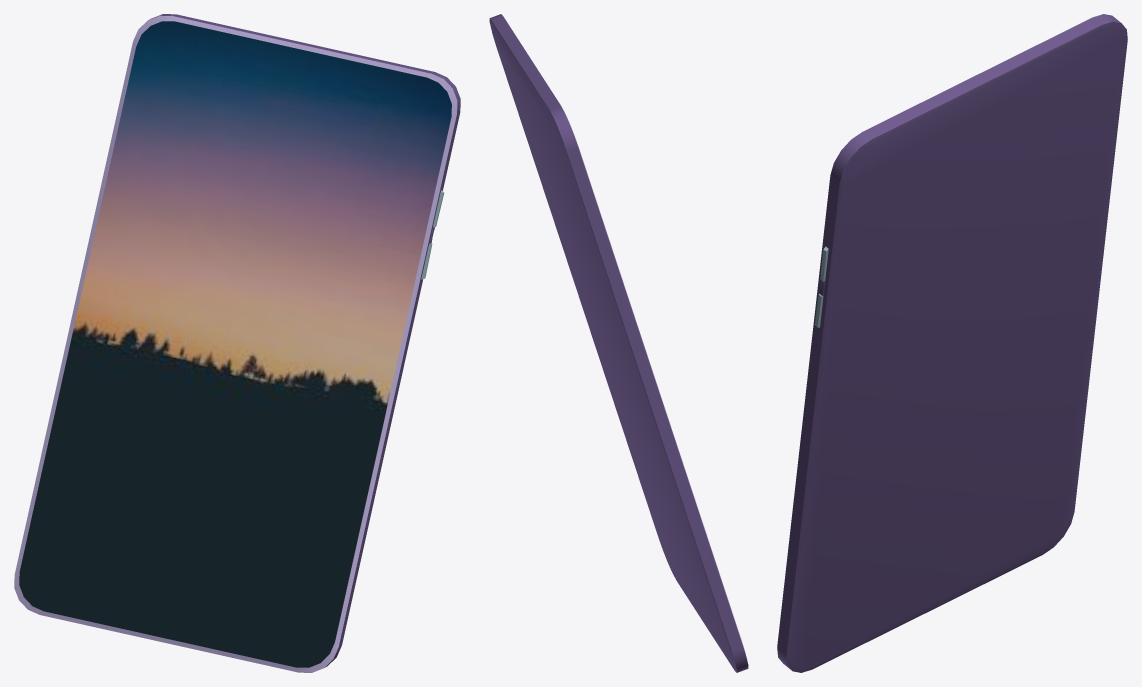
Rendered from Phonetwo.glb.
The picture shows the model from 3 angles, left to right: view 1: azimuth 30°, elevation 25°; view 2: azimuth 150°, elevation 25°; view 3: azimuth 270°, elevation 25°; orthographic projection. The views are drawn at different scales.
Visible parts, largest first — view 1: Plane, Phone_MetalRim_0; view 2: Phone_MetalRim_0; view 3: Phone_MetalRim_0.
Boxes of the visible parts, <box> form: Plane: <box>19,21,451,667</box>; Phone_MetalRim_0: <box>14,14,460,672</box>; Phone_MetalRim_0: <box>489,14,748,672</box>; Phone_MetalRim_0: <box>777,14,1127,672</box>.
Size of the model in its own units: 1.66 by 2.56 by 1.25.
Materials: 4 (1 with a texture image).
